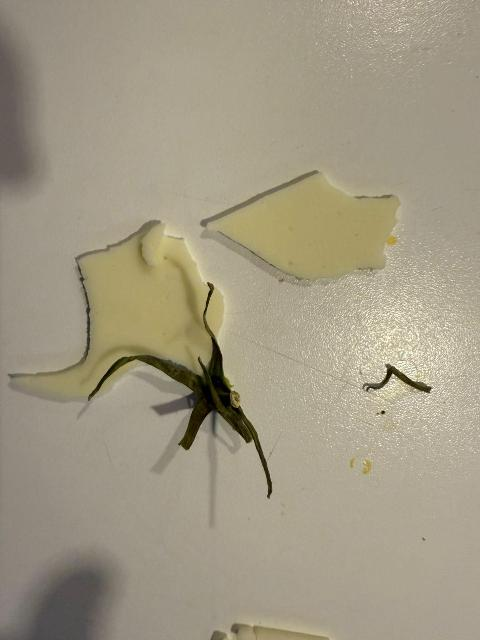Organik: (4, 217, 277, 500), (207, 171, 408, 284), (367, 360, 435, 404), (208, 620, 347, 639)
